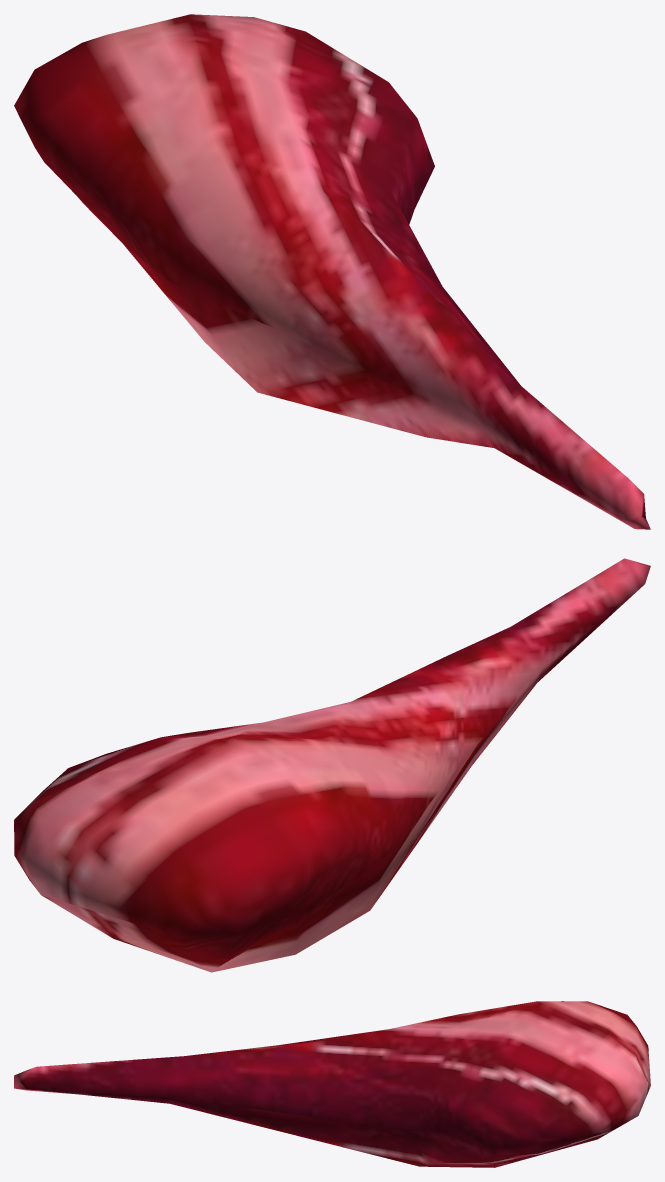
File: KM_MEAT_04.glb
The picture shows the model from 3 angles, top to bottom: view 1: azimuth 30°, elevation 25°; view 2: azimuth 150°, elevation 25°; view 3: azimuth 270°, elevation 25°; orthographic projection. The views are drawn at different scales.
Visible parts, largest first — view 1: Mesh; view 2: Mesh; view 3: Mesh.
Part boxes in pixels (x1,y1,x2,y2): Mesh: [14, 14, 650, 529]; Mesh: [14, 558, 650, 972]; Mesh: [14, 1001, 650, 1167].
Bounding box in the file's own units: 0.1584 × 0.1308 × 0.4685.
1 material, 1 textured.
